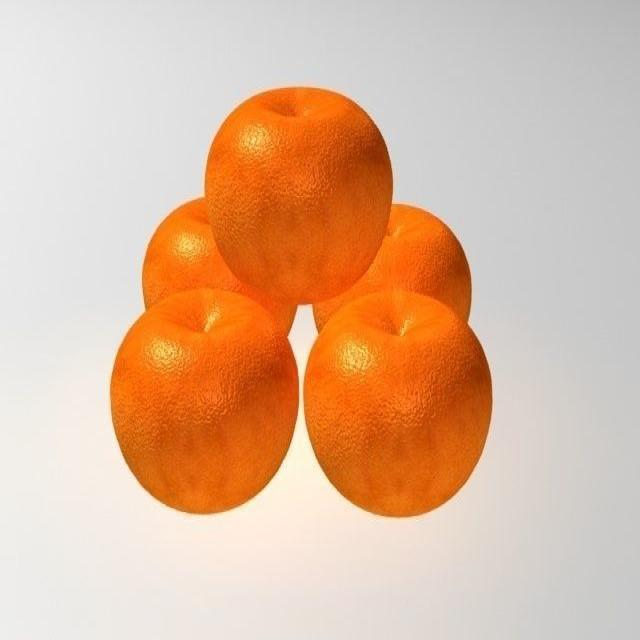Orange: (302, 287, 493, 517), (108, 286, 299, 514), (203, 84, 393, 304), (140, 195, 297, 335), (311, 201, 472, 332)
